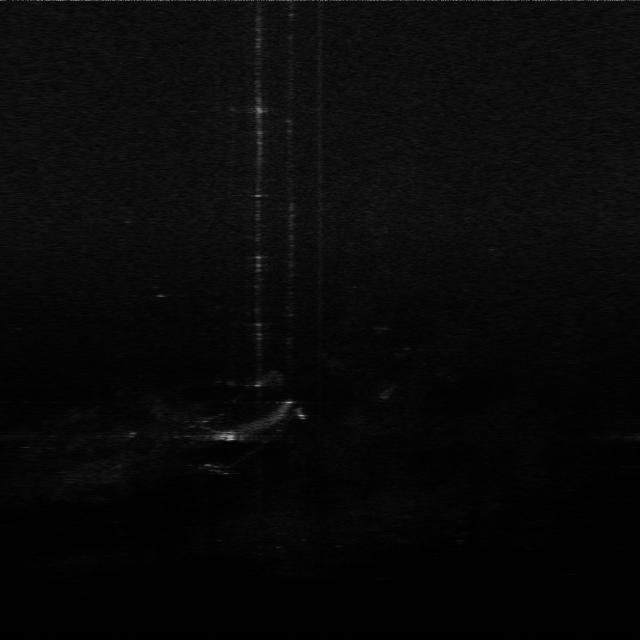rov: (209, 424, 242, 447)
